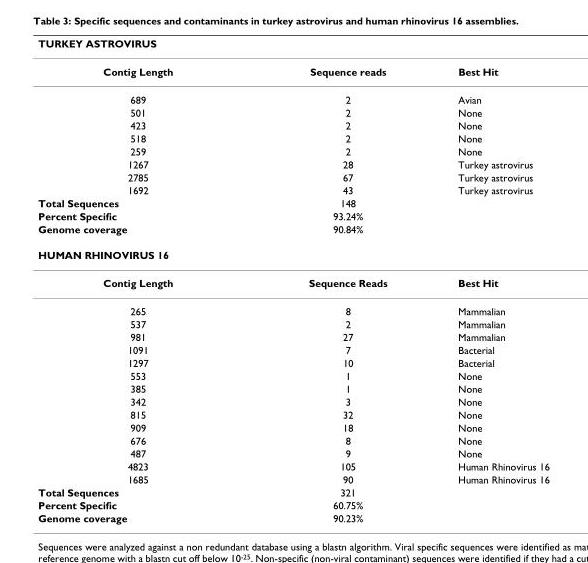table: (37, 36, 548, 523)
table column: (37, 36, 240, 523), (240, 36, 421, 523), (421, 36, 548, 523)
table column header: (37, 36, 548, 56)
table projected row header: (37, 241, 548, 268)
table row: (37, 56, 548, 85), (37, 268, 548, 296), (37, 241, 548, 268), (37, 296, 548, 317), (37, 36, 548, 56), (37, 85, 548, 105), (37, 222, 548, 241), (37, 105, 548, 118), (37, 118, 548, 131), (37, 131, 548, 144), (37, 144, 548, 157), (37, 157, 548, 170), (37, 170, 548, 183), (37, 183, 548, 196), (37, 196, 548, 209), (37, 209, 548, 222), (37, 317, 548, 330), (37, 330, 548, 343), (37, 343, 548, 356), (37, 368, 548, 381), (37, 381, 548, 394), (37, 394, 548, 407), (37, 407, 548, 420), (37, 420, 548, 433), (37, 433, 548, 446), (37, 446, 548, 459), (37, 459, 548, 472), (37, 472, 548, 485), (37, 485, 548, 498), (37, 498, 548, 511), (37, 356, 548, 368), (37, 511, 548, 523)
